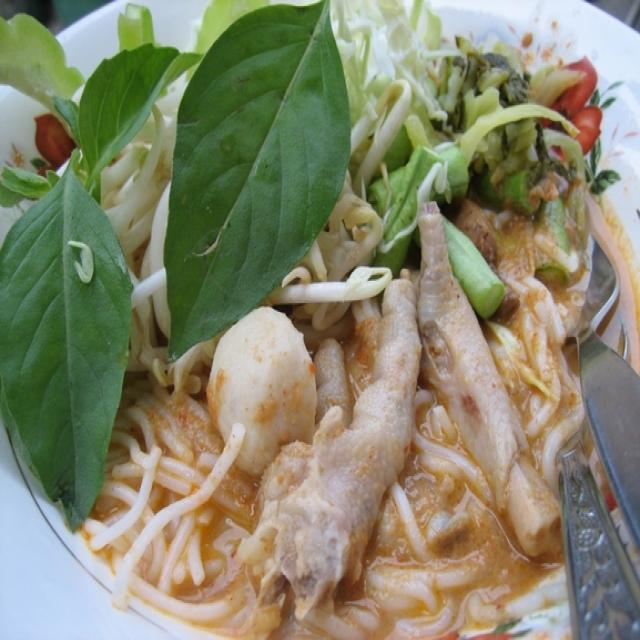面条主食: (10, 13, 628, 628)
